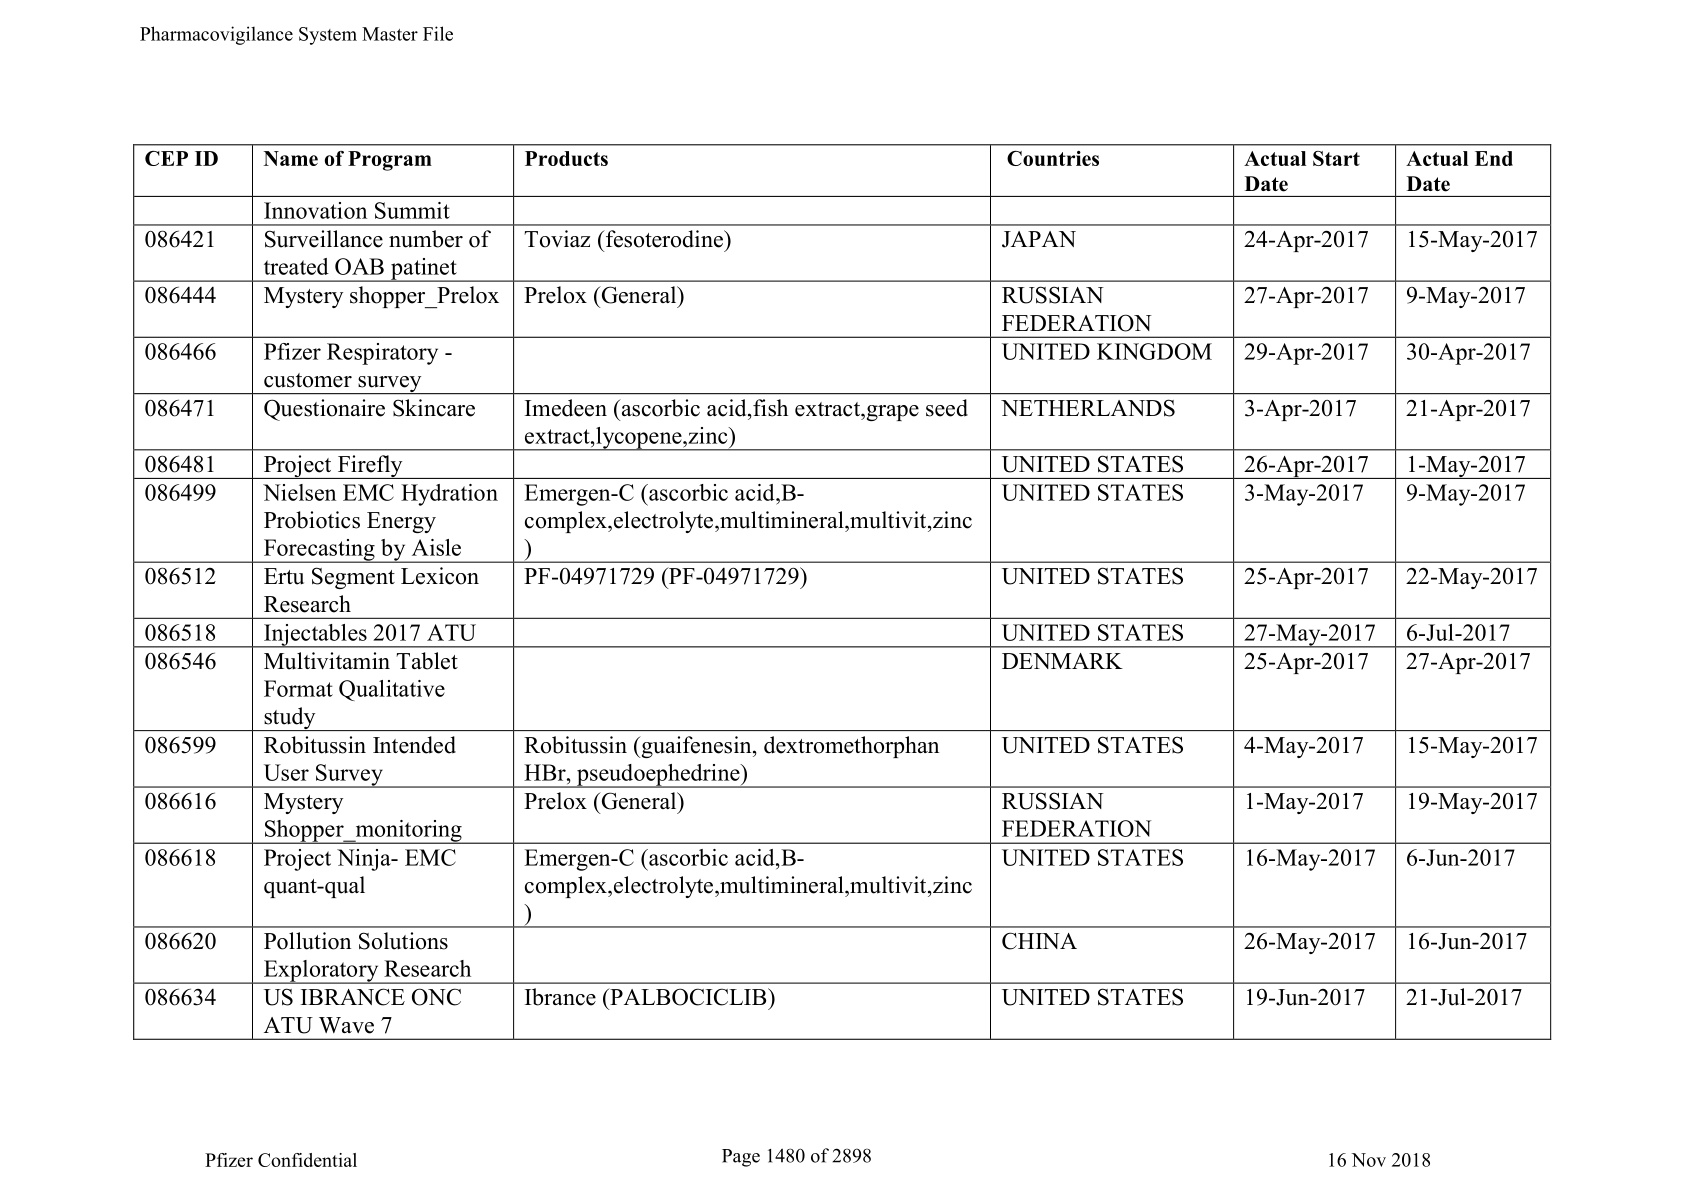full_lined: (131, 143, 1552, 1041)
